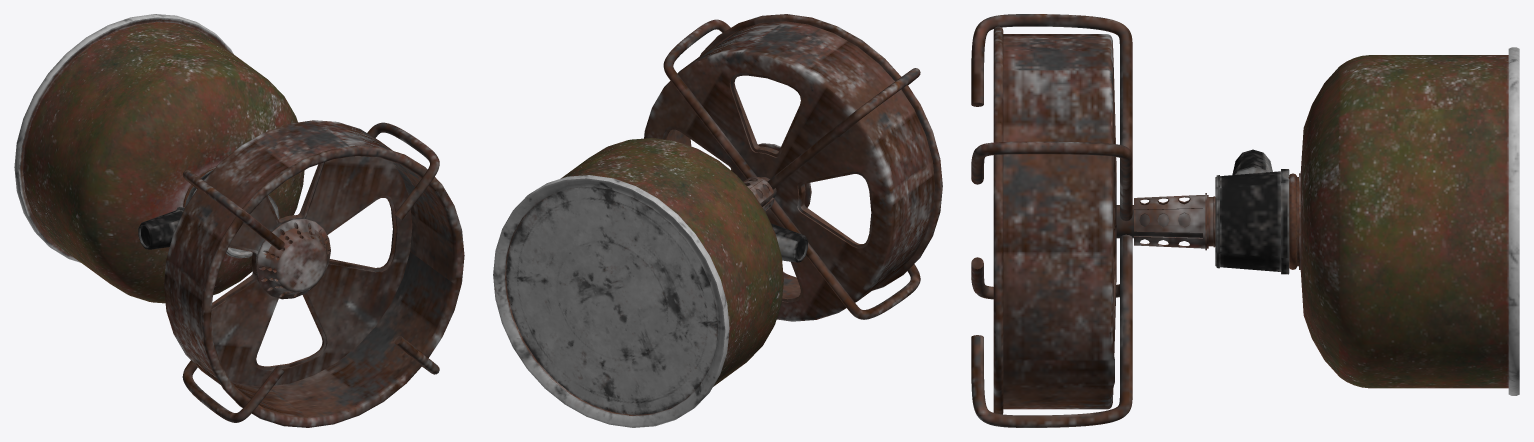
File: portable-gas-camping-stove-473749.glb
The picture shows the model from 3 angles, left to right: view 1: azimuth 30°, elevation 25°; view 2: azimuth 150°, elevation 25°; view 3: azimuth 270°, elevation 25°; orthographic projection. The views are drawn at different scales.
Parts seen in each view (by area): view 1: PropMesh; view 2: PropMesh; view 3: PropMesh.
Boxes of the visible parts, left/top/right/bottom form: PropMesh: left=14, top=14, right=464, bottom=427; PropMesh: left=493, top=14, right=942, bottom=427; PropMesh: left=971, top=14, right=1519, bottom=427.
Size of the model in its own units: 2.2 by 2.2 by 3.09.
5 materials, 5 textured.
